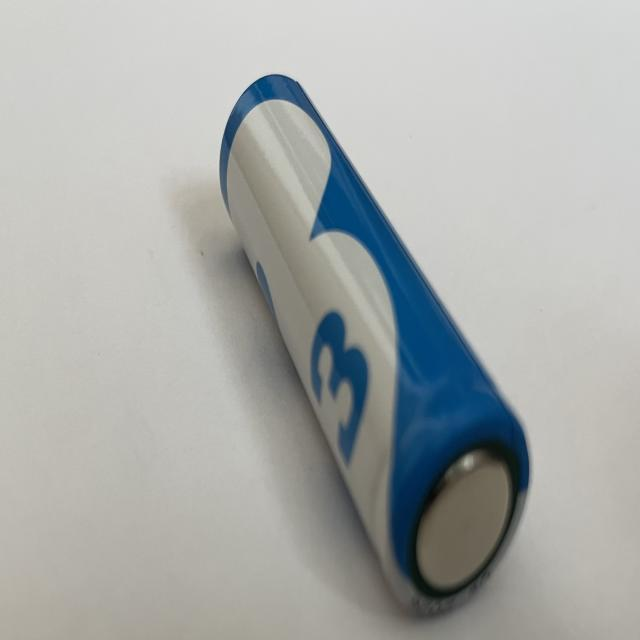hazardous waste: (216, 67, 530, 619)
